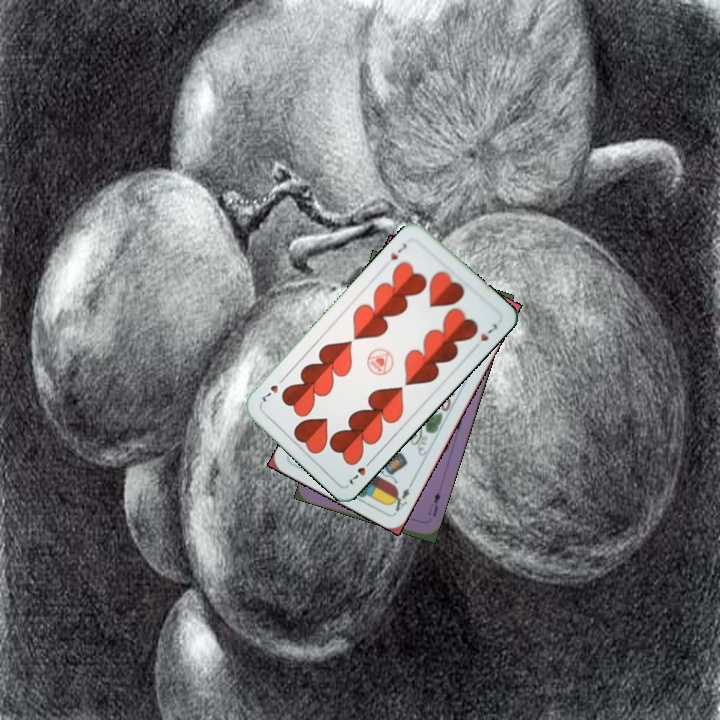EA: (387, 478, 416, 514)
EU: (424, 488, 443, 519)
H7: (345, 455, 376, 488), (386, 239, 410, 262)
